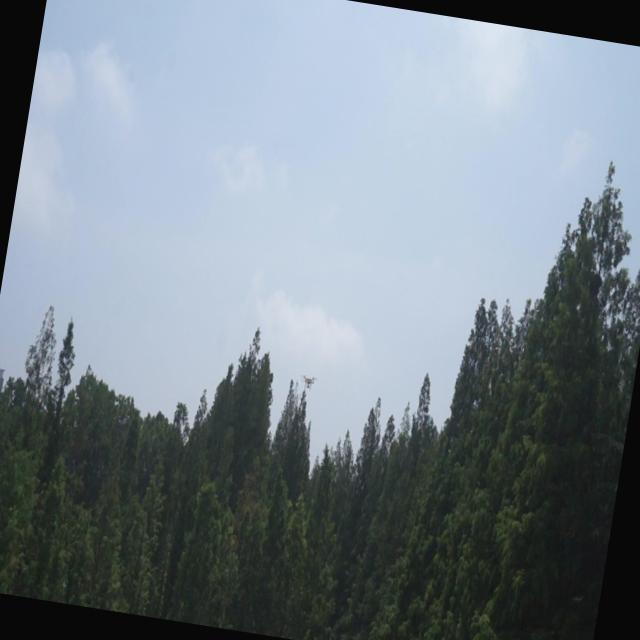drone: (298, 371, 322, 393)
